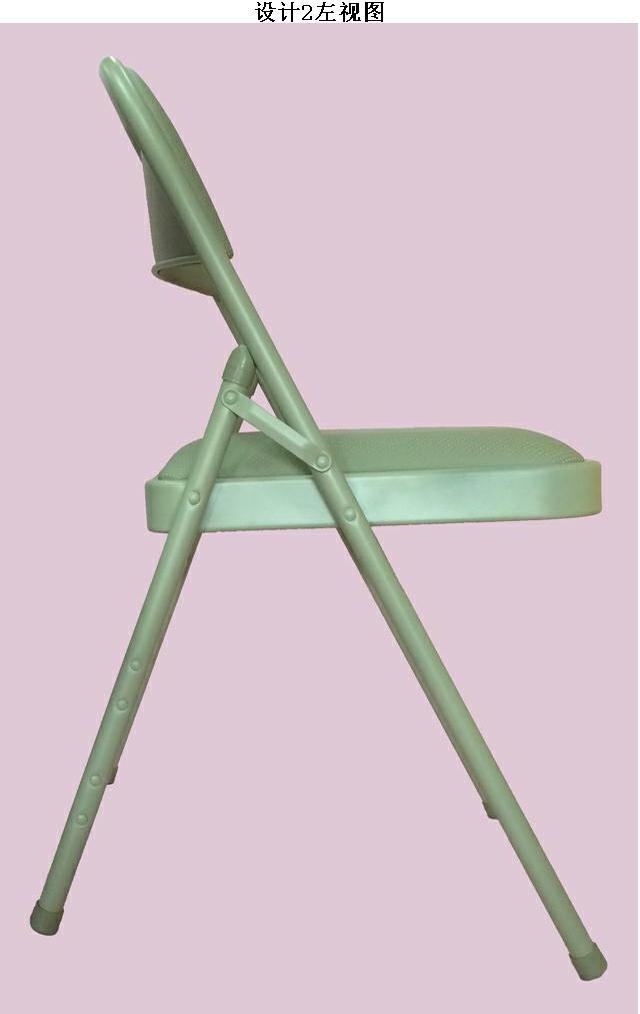obstacle: (30, 57, 606, 979)
